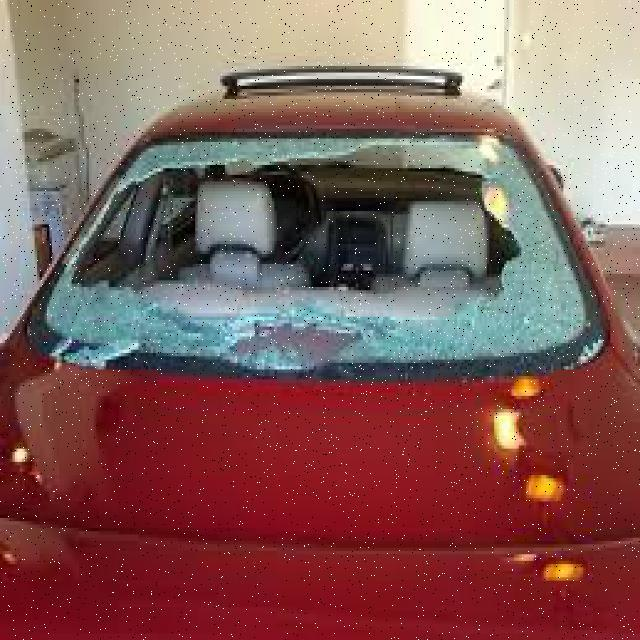Rear-windscreen-Damage: (17, 116, 610, 410)
